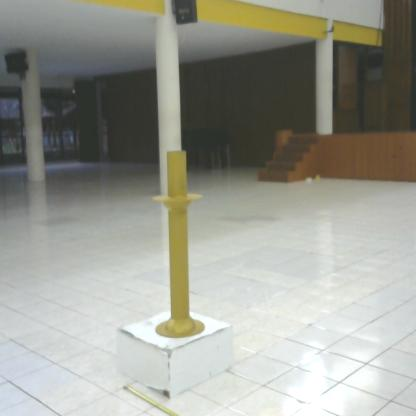pole: (147, 143, 218, 359)
